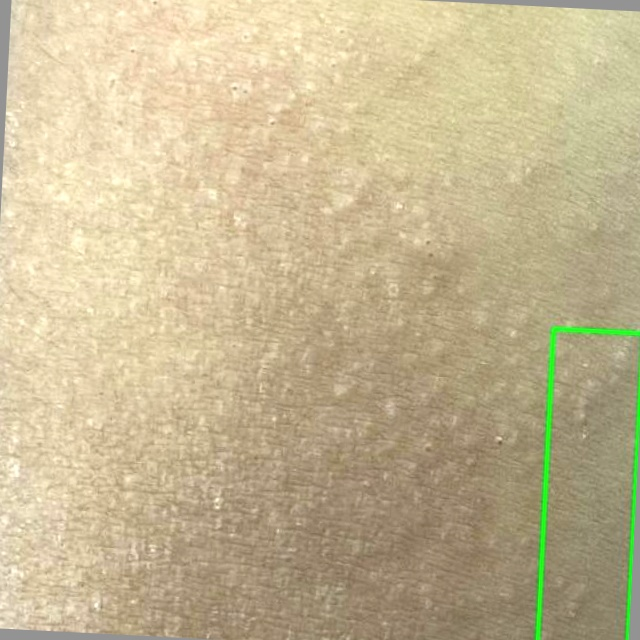Contact Dermatitis: (537, 328, 639, 639)
